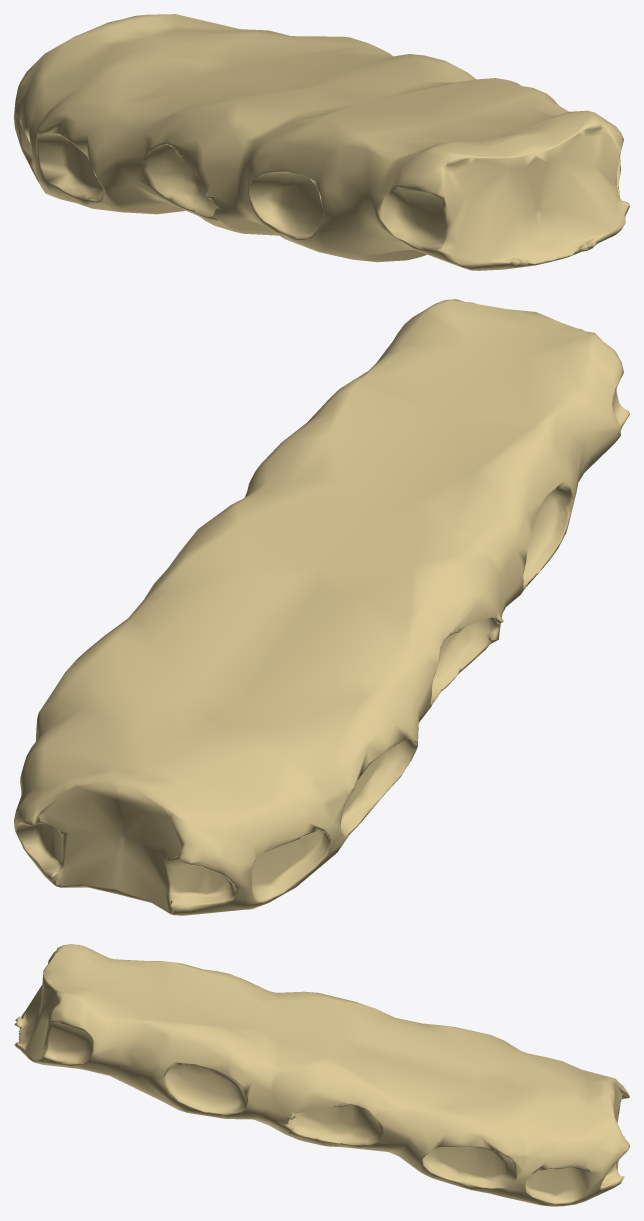
3 renders of one model, top to bottom at view 1: azimuth 30°, elevation 25°; view 2: azimuth 150°, elevation 25°; view 3: azimuth 270°, elevation 25°, orthographic. The views are drawn at different scales.
Visible parts, largest first — view 1: 胸骨体; view 2: 胸骨体; view 3: 胸骨体.
Boxes of the visible parts, left/top/right/bottom form: 胸骨体: left=14, top=14, right=629, bottom=270; 胸骨体: left=14, top=299, right=629, bottom=915; 胸骨体: left=14, top=944, right=629, bottom=1206.
Bounding box in the file's own units: 0.0727 × 0.0634 × 0.1759.
